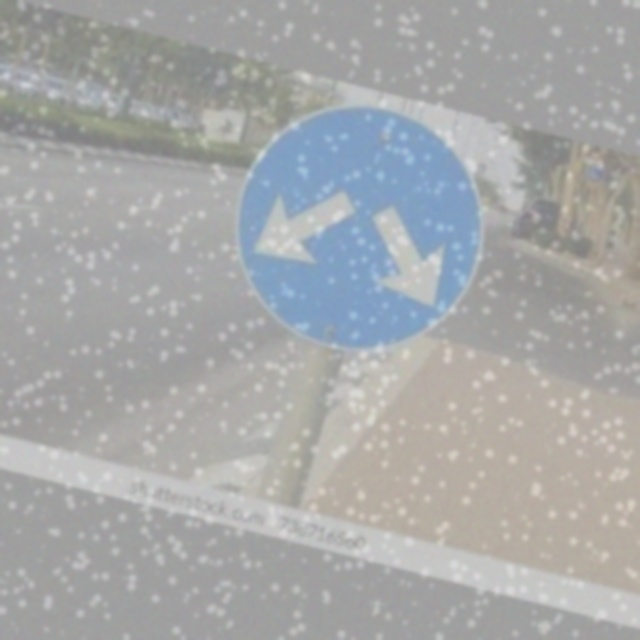Pass_Either_Side: (207, 77, 513, 379)
